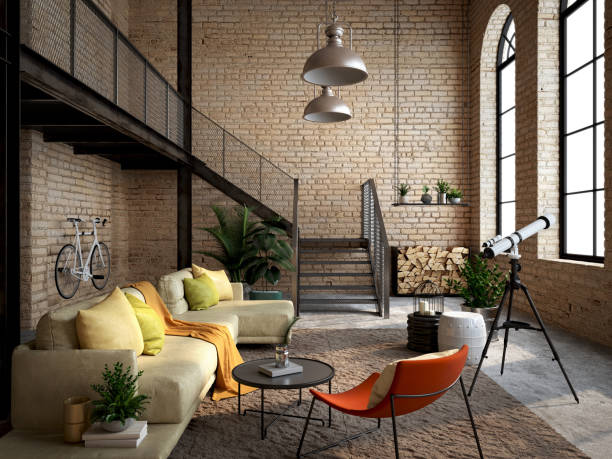chair: (297, 343, 485, 459)
large plant: (198, 201, 254, 297), (452, 254, 507, 342), (247, 218, 296, 301)
small plant: (84, 359, 153, 434), (391, 180, 414, 204), (434, 179, 449, 202), (418, 184, 431, 203), (450, 186, 462, 201)
sofa: (7, 262, 296, 459)
table: (230, 356, 335, 442)
